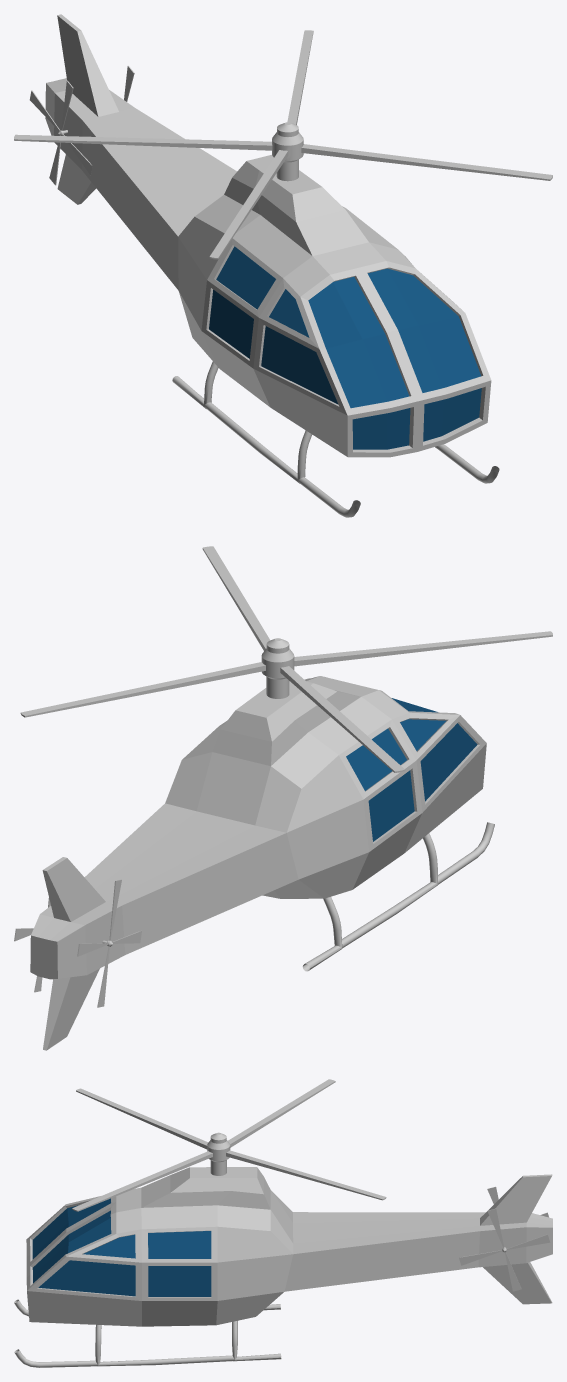
The model's file is helicopter_animation_000067.obj.
3 renders of one model, top to bottom at view 1: azimuth 30°, elevation 25°; view 2: azimuth 150°, elevation 25°; view 3: azimuth 270°, elevation 25°, orthographic. The views are drawn at different scales.
Visible parts, largest first — view 1: Helicopter.007_Cylinder.008, Helicopter.001_Cylinder.001, Helicopter.004_Cylinder.005; view 2: Helicopter.007_Cylinder.008, Helicopter.001_Cylinder.001, Helicopter.004_Cylinder.005; view 3: Helicopter.007_Cylinder.008, Helicopter.001_Cylinder.001, Helicopter.003_Cylinder.004.
Boxes of the visible parts, x1,y1,x2,y2 form: Helicopter.007_Cylinder.008: (45,14,499,517); Helicopter.001_Cylinder.001: (14,30,552,259); Helicopter.004_Cylinder.005: (29,80,92,185); Helicopter.007_Cylinder.008: (30,676,494,1050); Helicopter.001_Cylinder.001: (20,546,552,772); Helicopter.004_Cylinder.005: (77,879,141,1007); Helicopter.007_Cylinder.008: (14,1167,552,1367); Helicopter.001_Cylinder.001: (72,1079,386,1211); Helicopter.003_Cylinder.004: (459,1208,550,1291).
Size of the model in its own units: 4.33 by 3.2 by 7.49.
